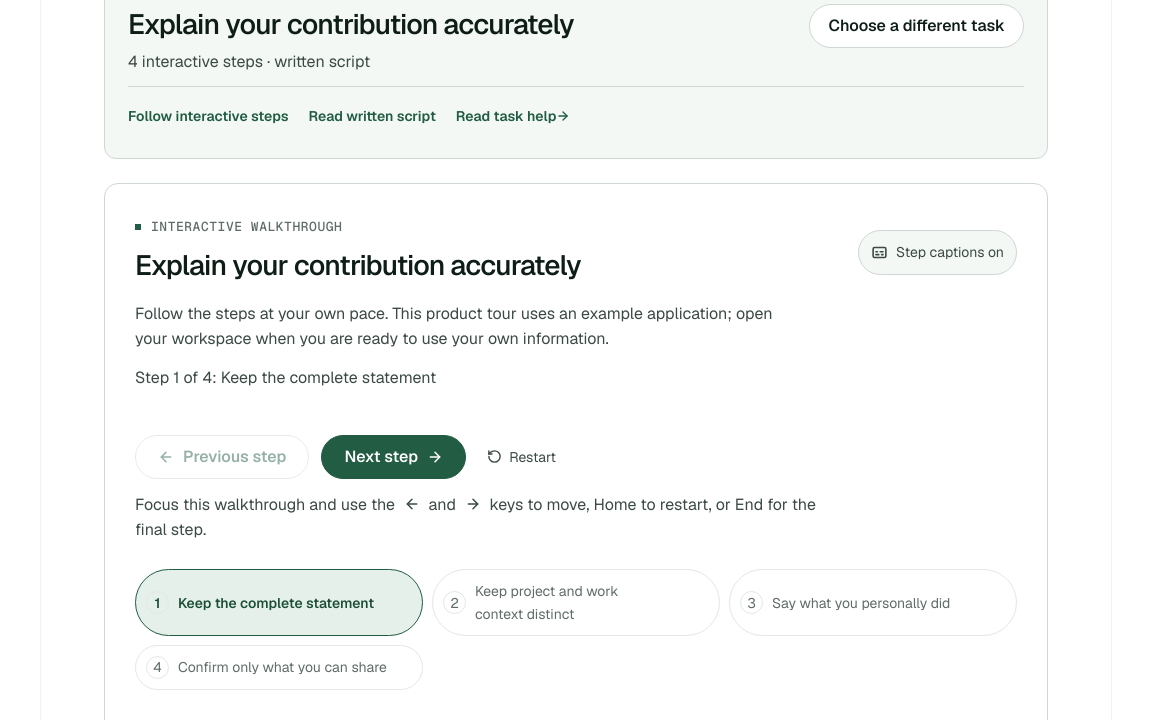
Test case: honest interactive walkthroughs › keeps the source-review text tour readable and navigable while its recording is unlisted
The image size is (1152, 720).
Later steps or results of the test are not shown.
(page scrolled)
Expected: the element named "Selected walkthrough" shows "Explain your contribution accurately", [128,6,574,42]
Click the button "Next step" at (394, 457), box [321,435,466,479]
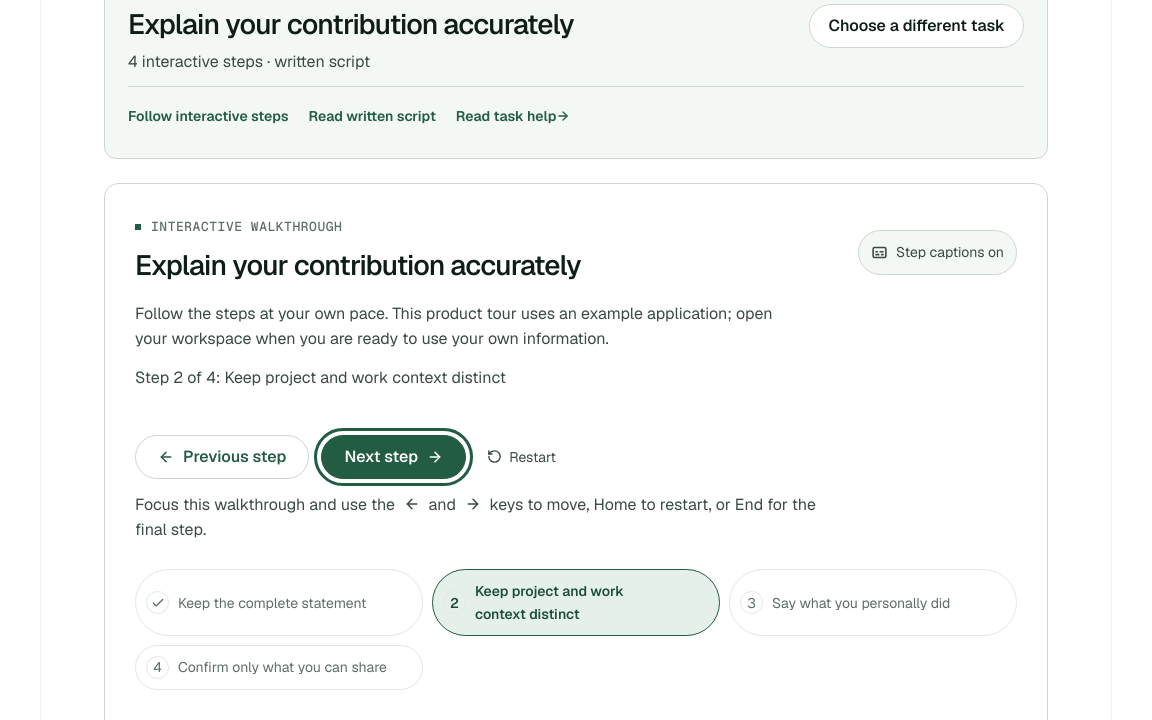
Click the button "Next step" at (394, 457), box [321,435,466,479]
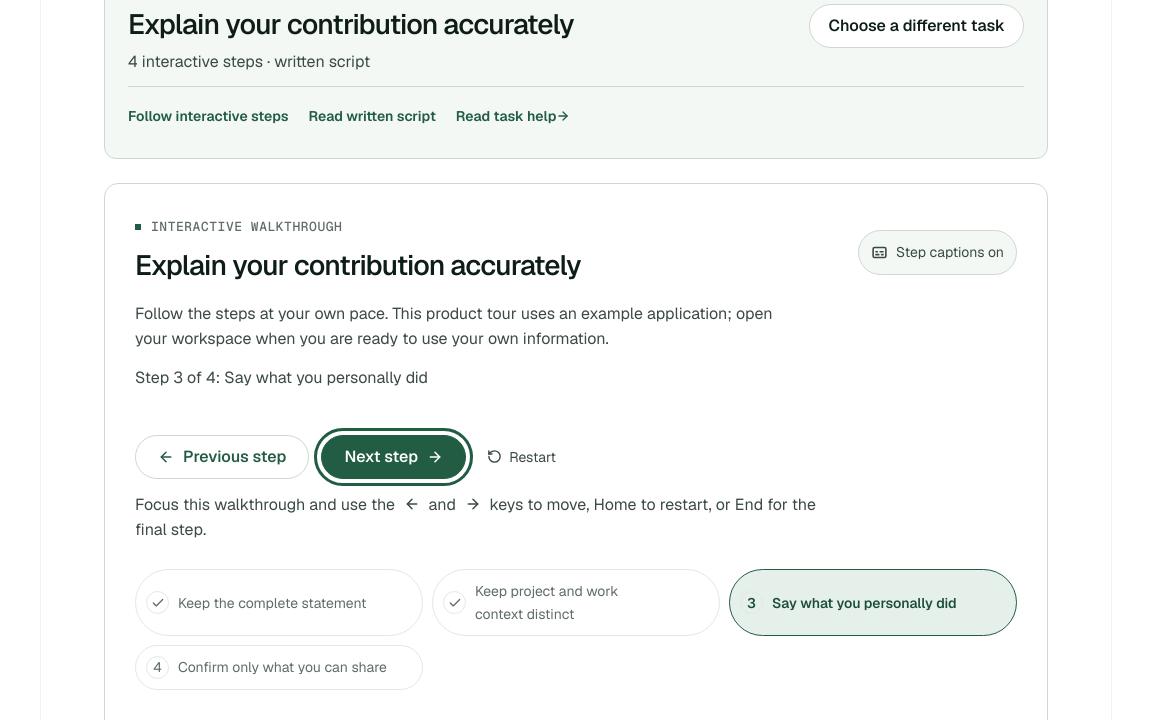
Click the button "Next step" at (394, 457), box [321,435,466,479]
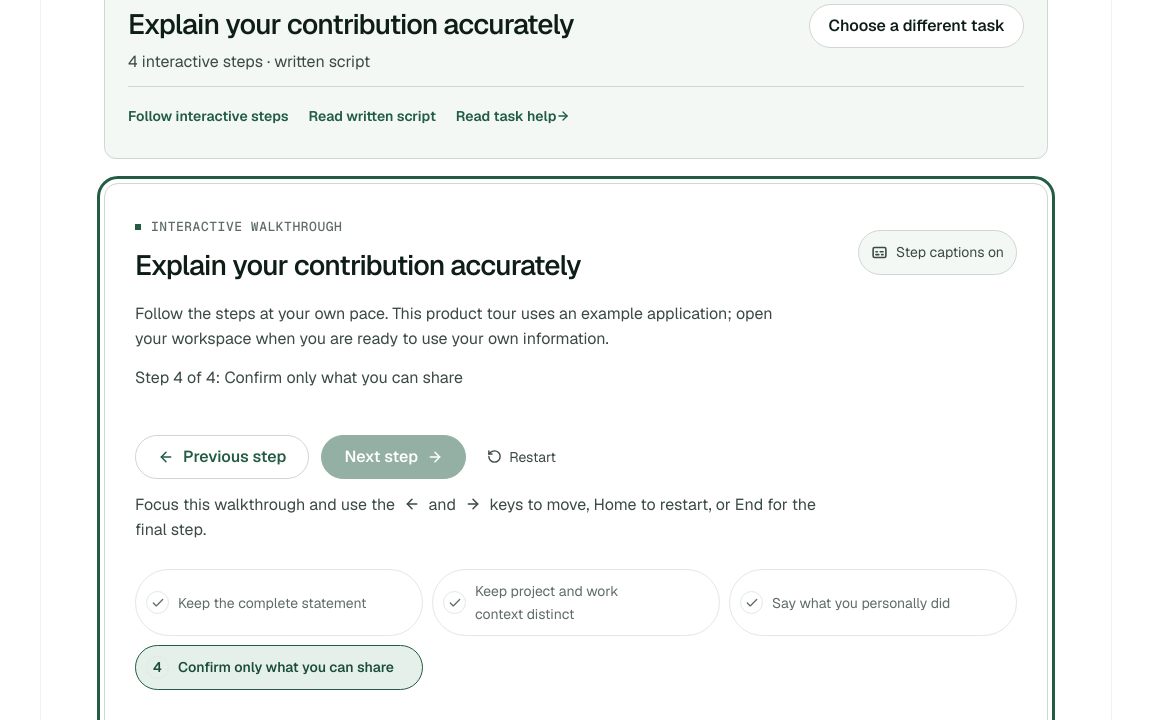
Expected: the button "Next step" is disabled, [321,435,466,479]
